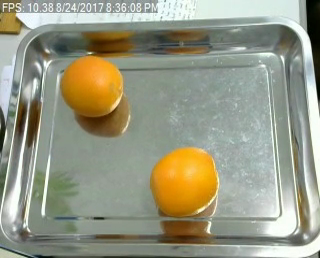Orange: (149, 147, 218, 216), (60, 55, 123, 116)
